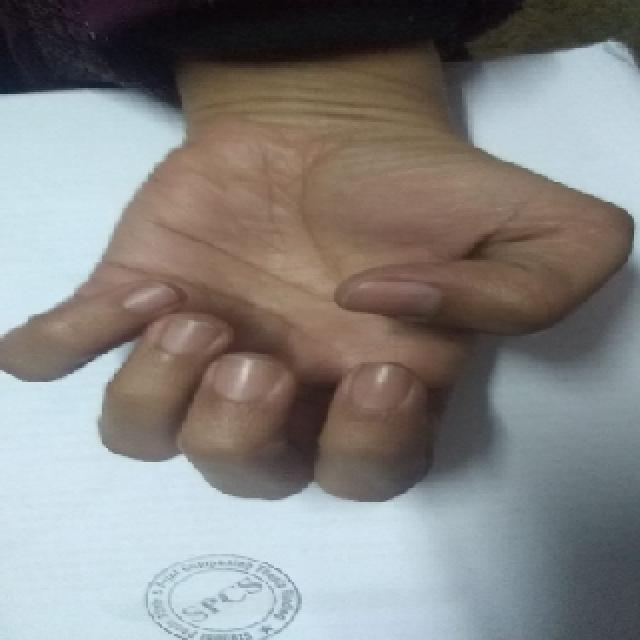Nail: (349, 280, 442, 313), (350, 362, 411, 411), (211, 358, 280, 401), (160, 320, 221, 355), (122, 281, 181, 315)
